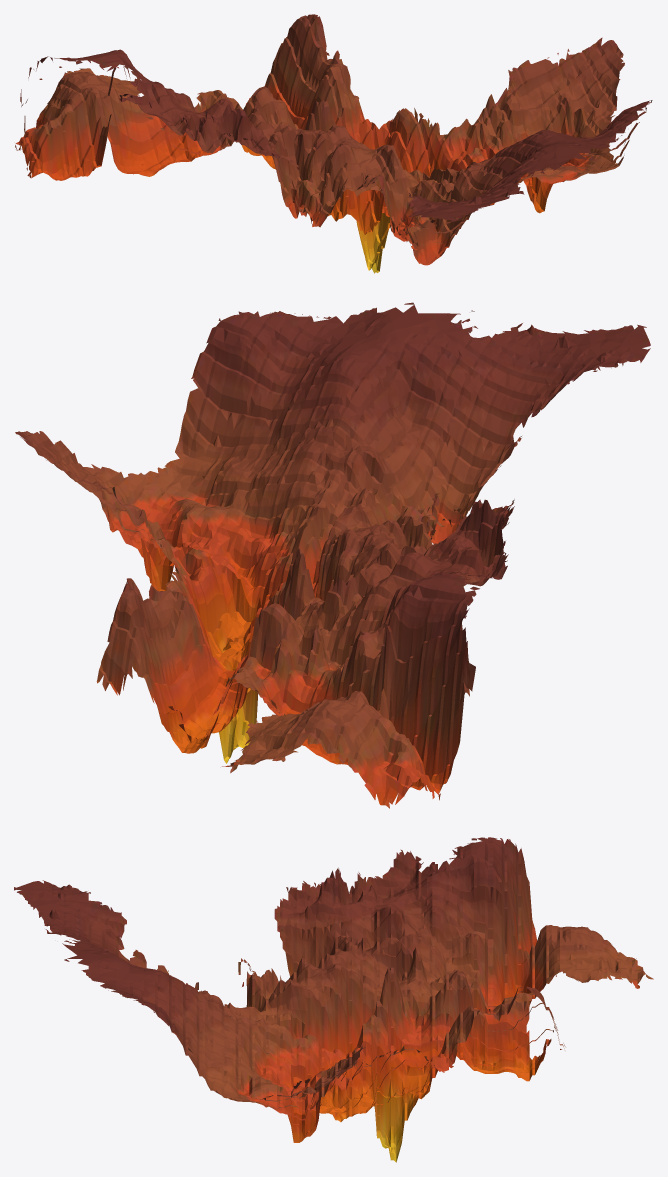
Rendered from DEM_RAST.pdf.gltf.
3 renders of one model, top to bottom at view 1: azimuth 30°, elevation 25°; view 2: azimuth 150°, elevation 25°; view 3: azimuth 270°, elevation 25°, orthographic. The views are drawn at different scales.
Bounding box in the file's own units: 1159252 × 550147 × 1476794.
Materials: 1 (1 with a texture image).
